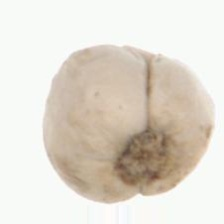L4: (42, 44, 214, 204)
